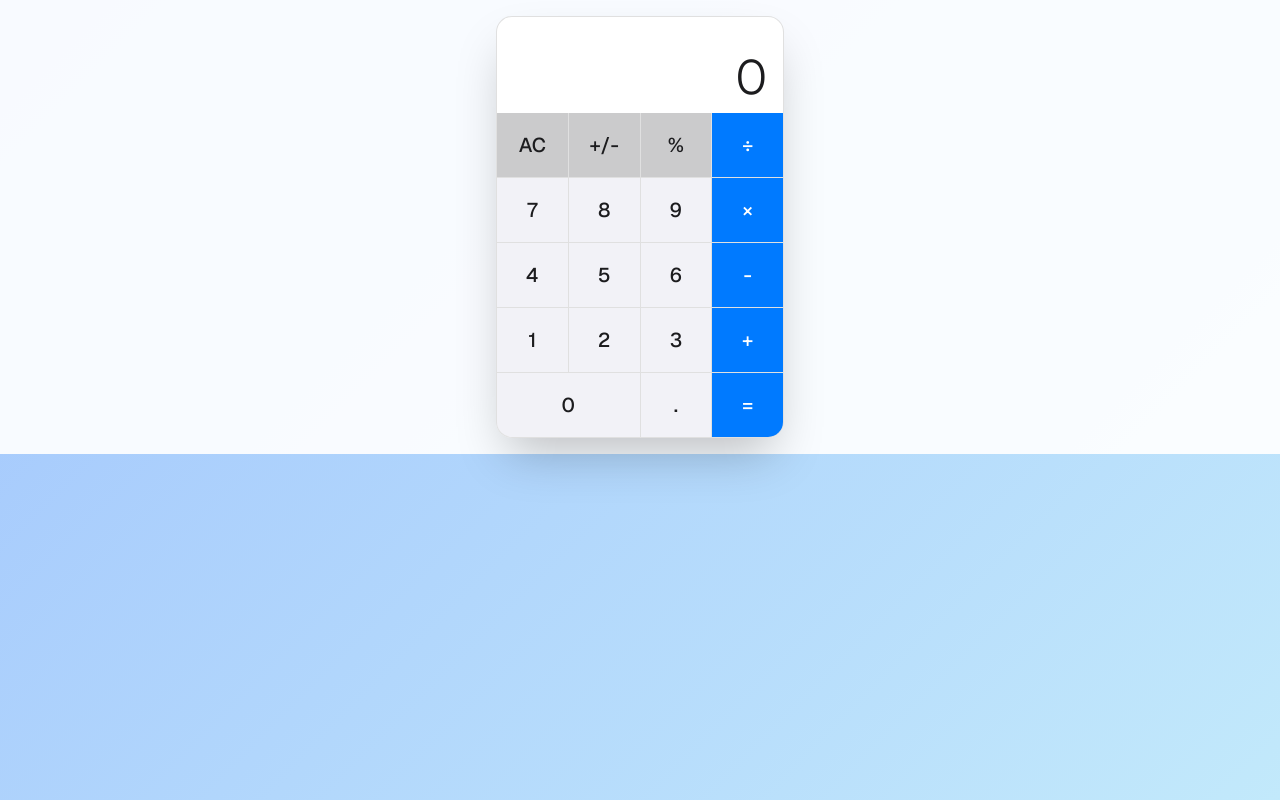
Test: Calculator › inputs digits
The image size is (1280, 800).
Click the button with test id "calc-1" at (532,340), box left=497, top=308, right=568, bottom=372
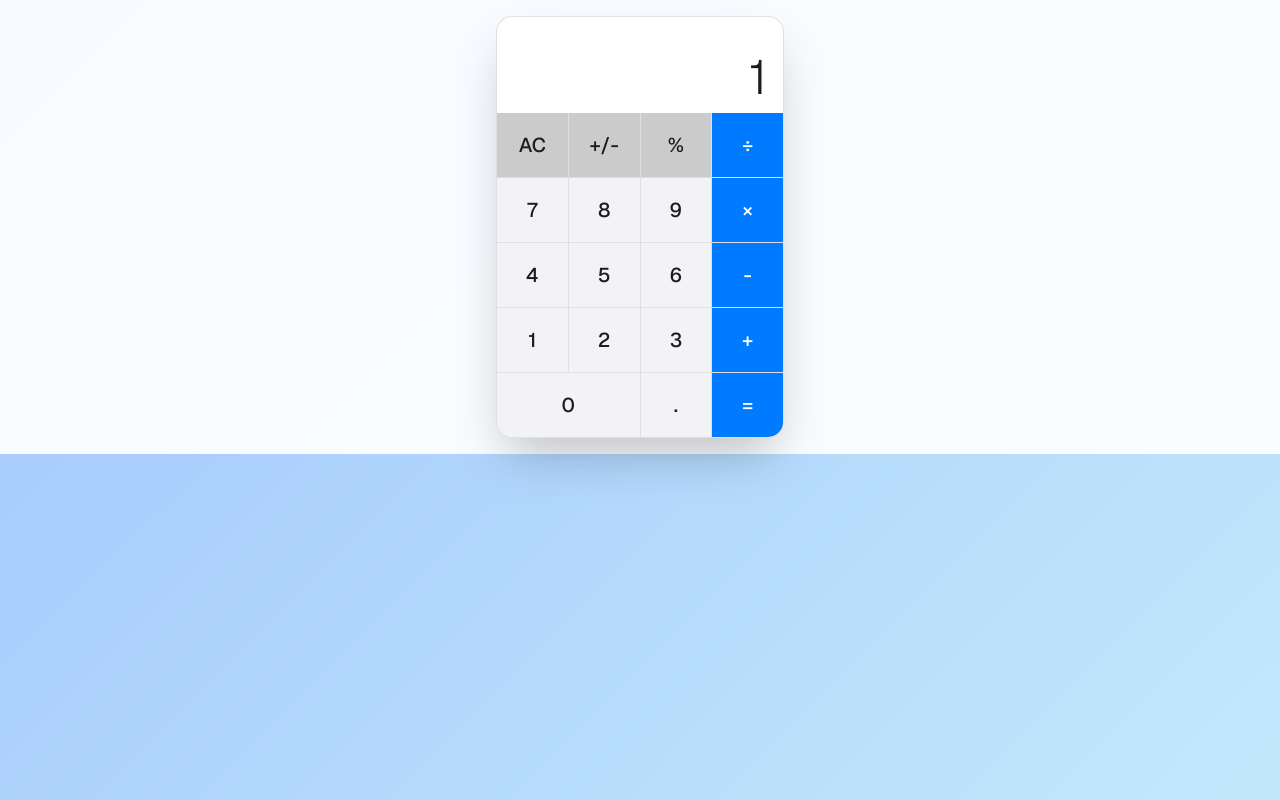
Click the button with test id "calc-2" at (604,340), box left=569, top=308, right=640, bottom=372
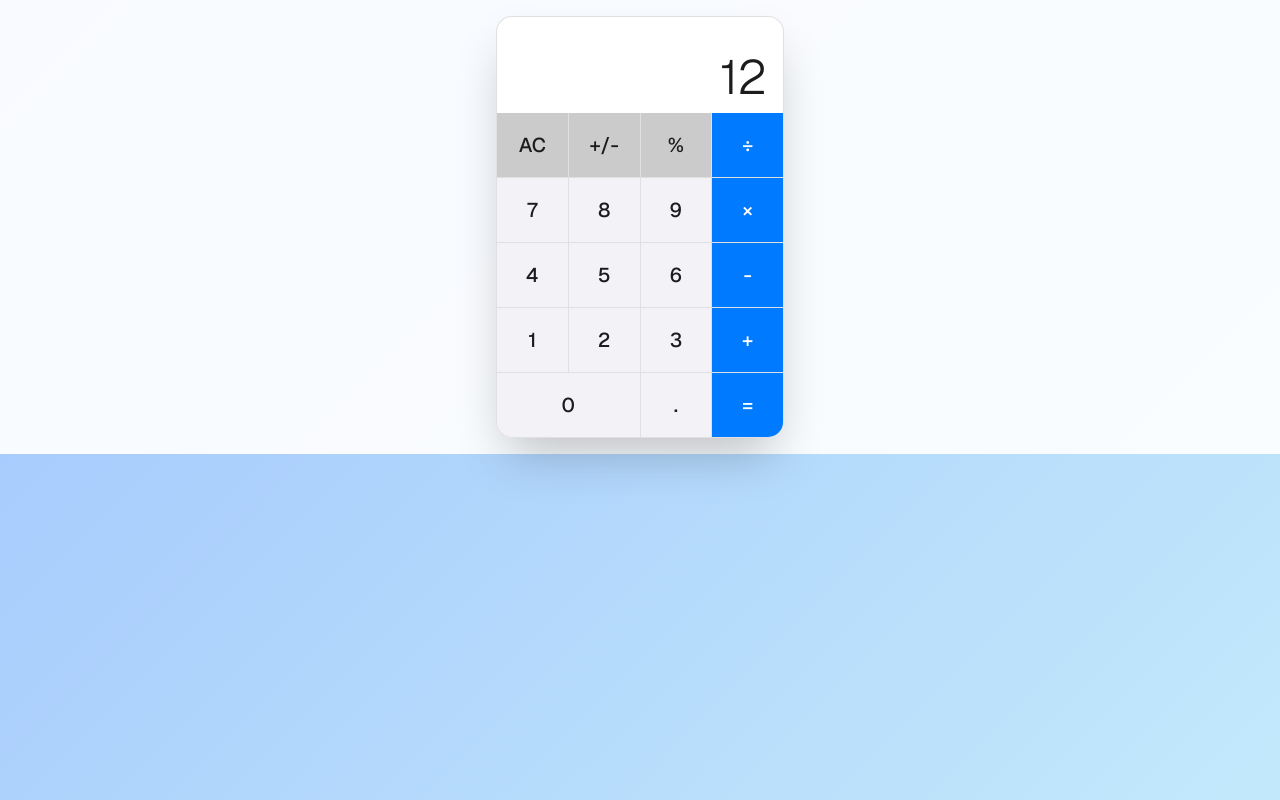
Click the button with test id "calc-3" at (676,340), box left=640, top=308, right=711, bottom=372
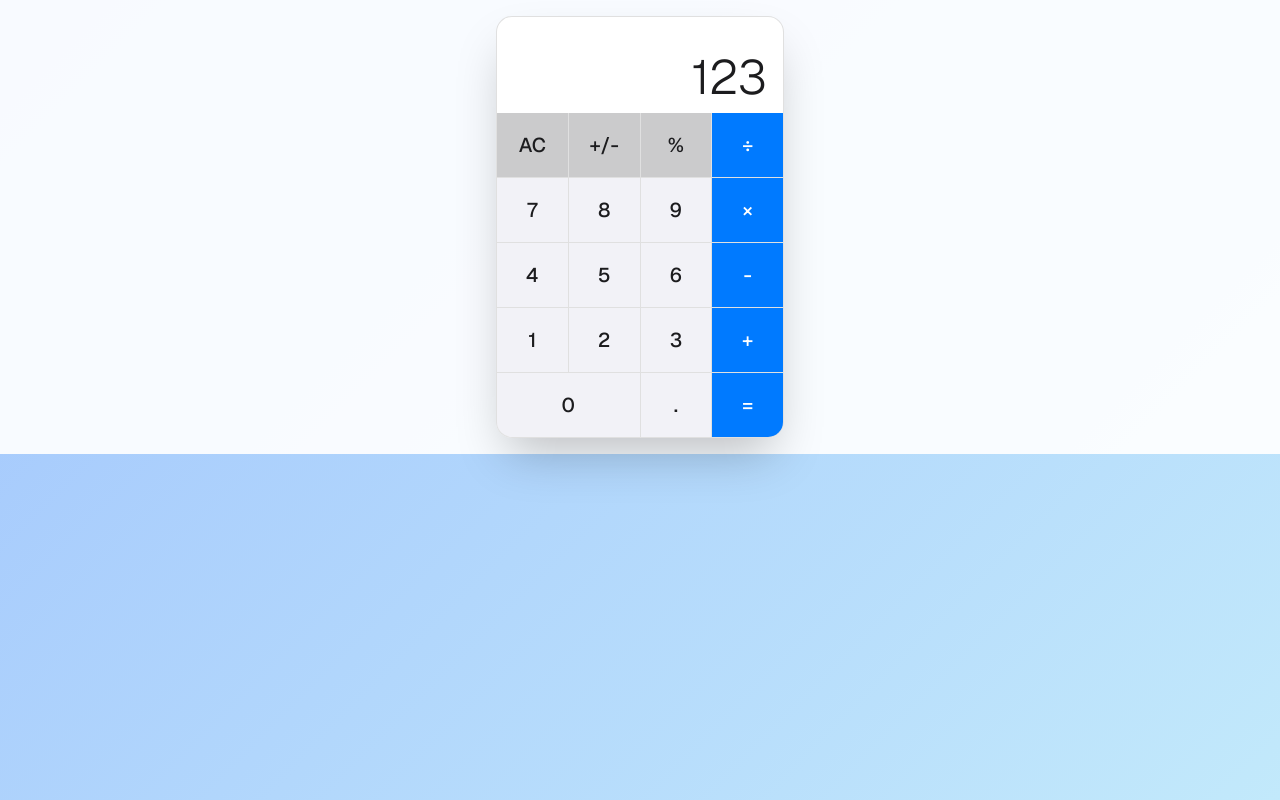
Expected: the text with test id "calc-display" reads "123", left=691, top=46, right=767, bottom=108
